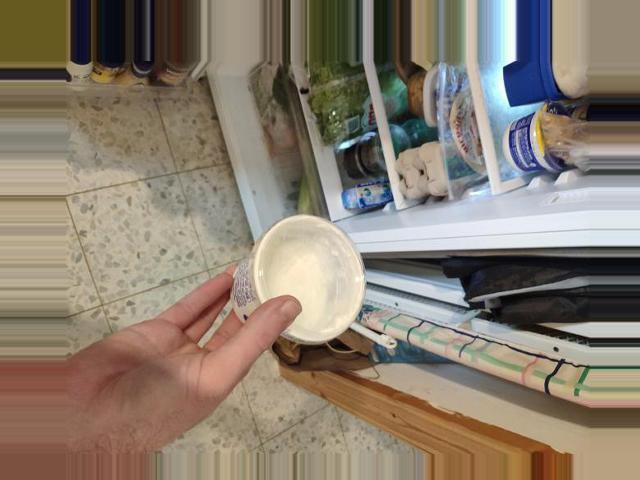cotage: (233, 248, 355, 345)
